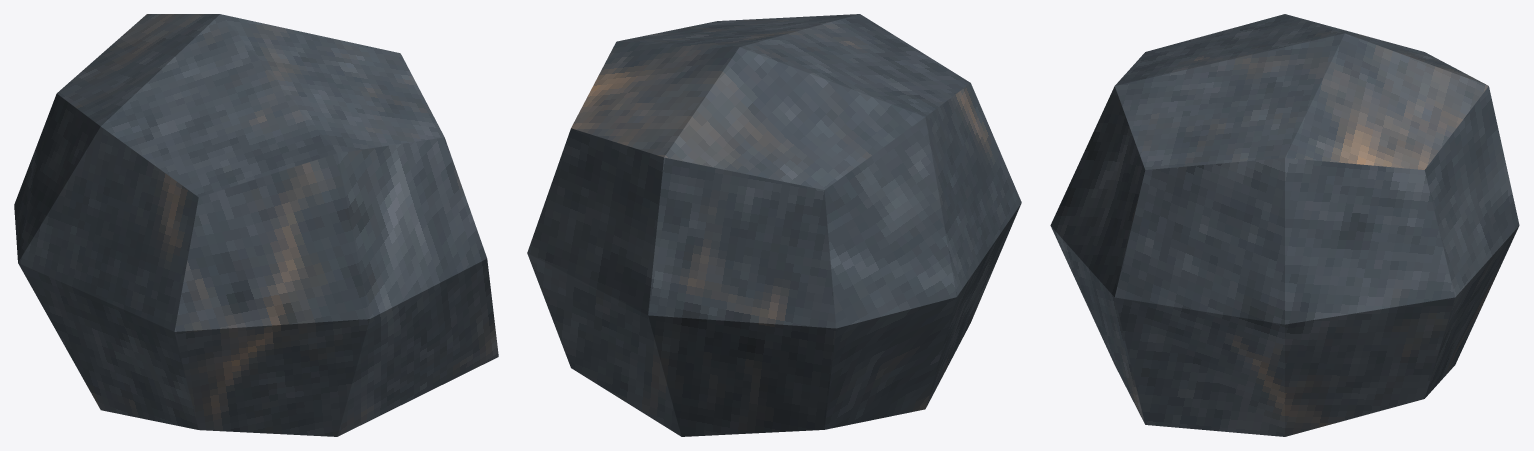
File: SmallStone.glb
3 renders of one model, left to right at view 1: azimuth 30°, elevation 25°; view 2: azimuth 150°, elevation 25°; view 3: azimuth 270°, elevation 25°, orthographic. The views are drawn at different scales.
Parts seen in each view (by area): view 1: Cube; view 2: Cube; view 3: Cube.
Part boxes in pixels (x1,y1,x2,y2): Cube: (14, 14, 498, 436); Cube: (527, 14, 1021, 436); Cube: (1050, 14, 1519, 436).
Size of the model in its own units: 0.5463 by 0.4592 by 0.5463.
Materials: 1 (1 with a texture image).
